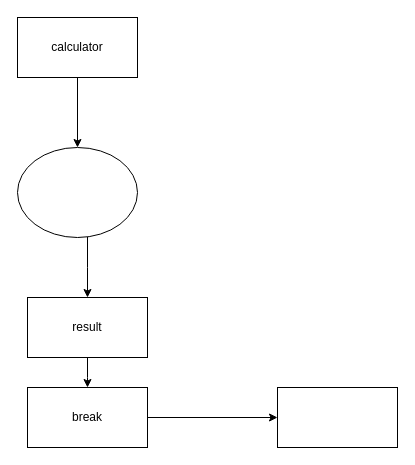
Some shapes in this 415 by 465 pixel diagram are drawn without their labels. Each missing label, with the centre of its shape:
"exit" goes at pixel 337 417.
"select operation" goes at pixel 77 192.
